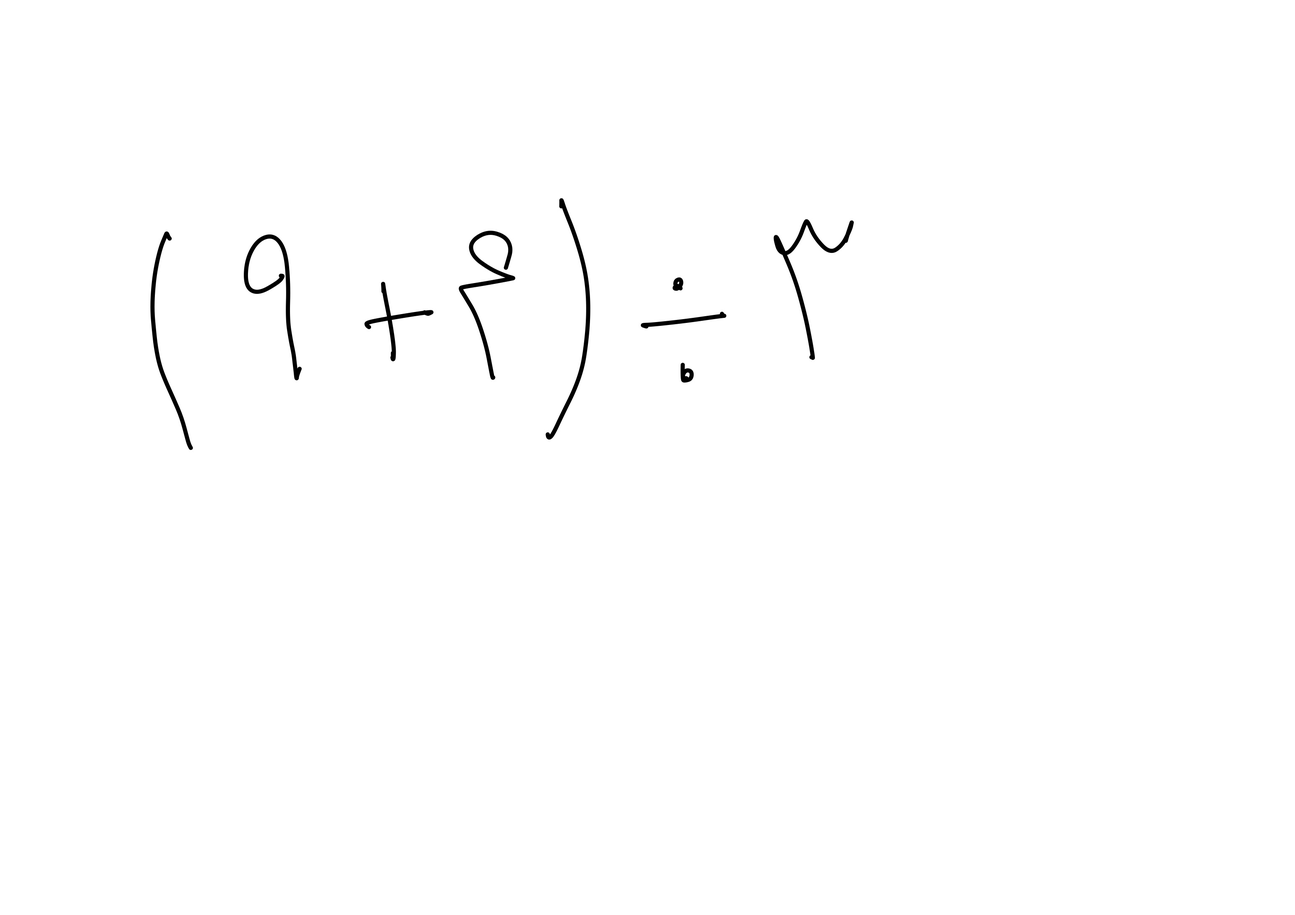character: (772, 217, 856, 361), (148, 231, 197, 451), (549, 197, 590, 455), (638, 277, 724, 385), (241, 233, 303, 381), (457, 229, 517, 381), (365, 279, 433, 361)
